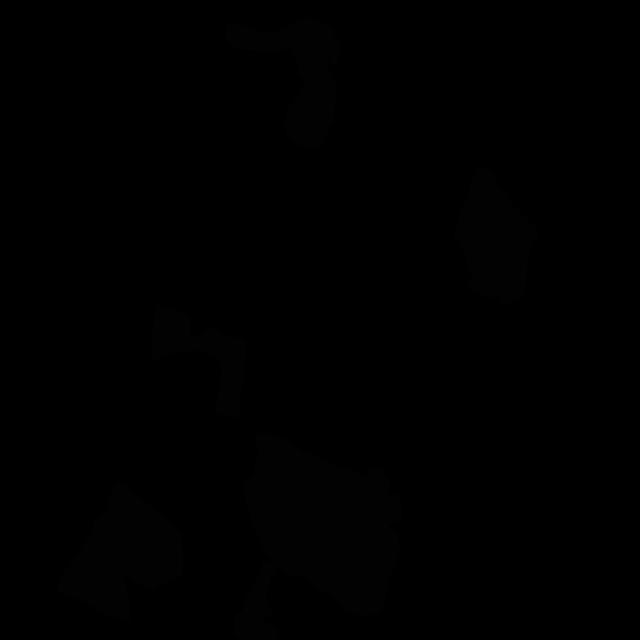cardboard: (242, 432, 402, 617), (56, 483, 183, 621), (225, 17, 340, 151), (454, 166, 540, 304), (151, 303, 246, 419), (234, 561, 282, 640)
